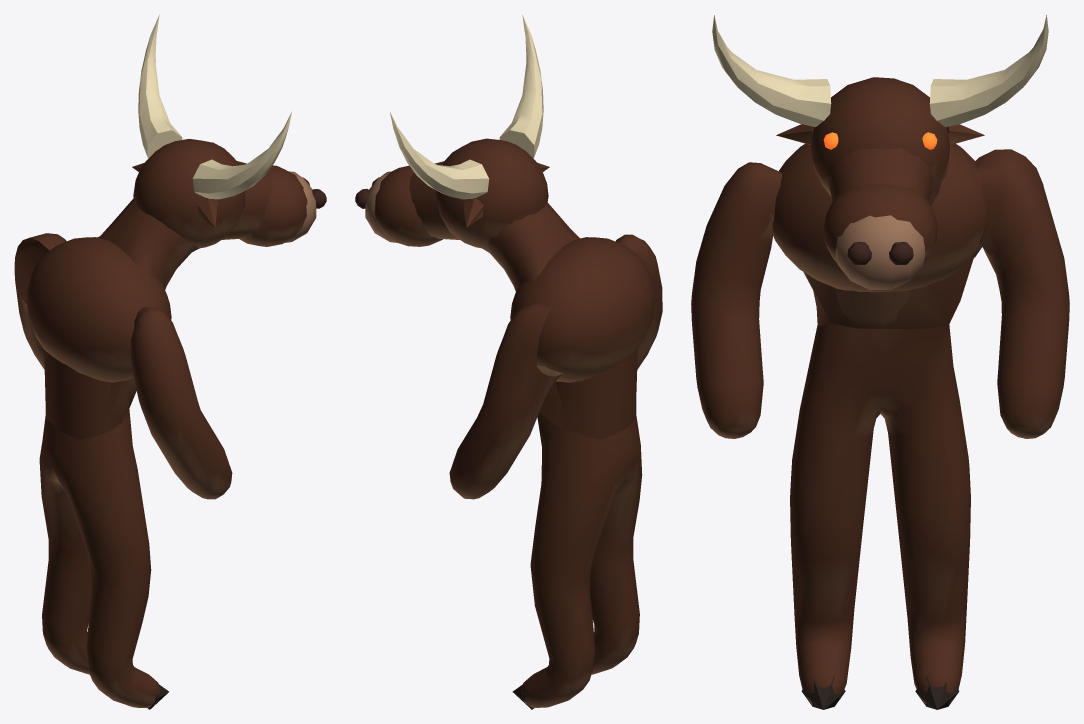
The model's file is minotaur.glb.
3 views of the same model, side by side, from view 1: azimuth 30°, elevation 25°; view 2: azimuth 150°, elevation 25°; view 3: azimuth 270°, elevation 25° (orthographic). The views are drawn at different scales.
Visible parts, largest first — view 1: minotaur.001; view 2: minotaur.001; view 3: minotaur.001.
Part boxes in pixels (x1,y1,x2,y2): minotaur.001: (14,14,326,709); minotaur.001: (355,15,662,709); minotaur.001: (691,15,1069,709).
Bounding box in the file's own units: 1.26 × 2.64 × 1.2.
